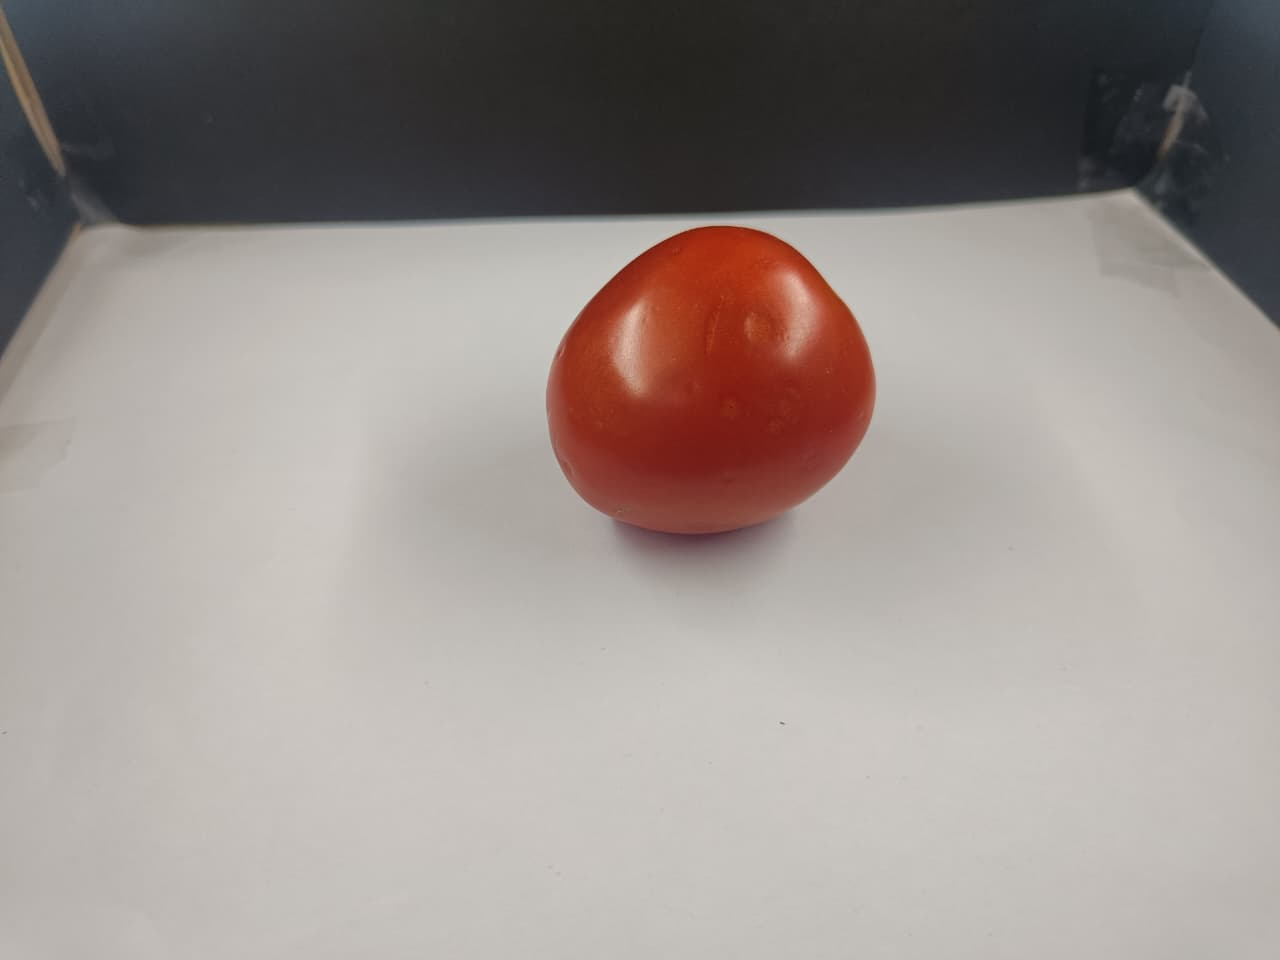ripe: (536, 224, 881, 546)
